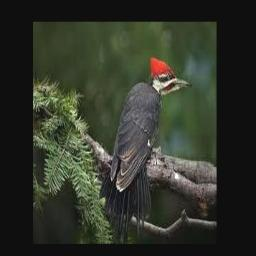Woodpecker: (100, 55, 191, 243)
